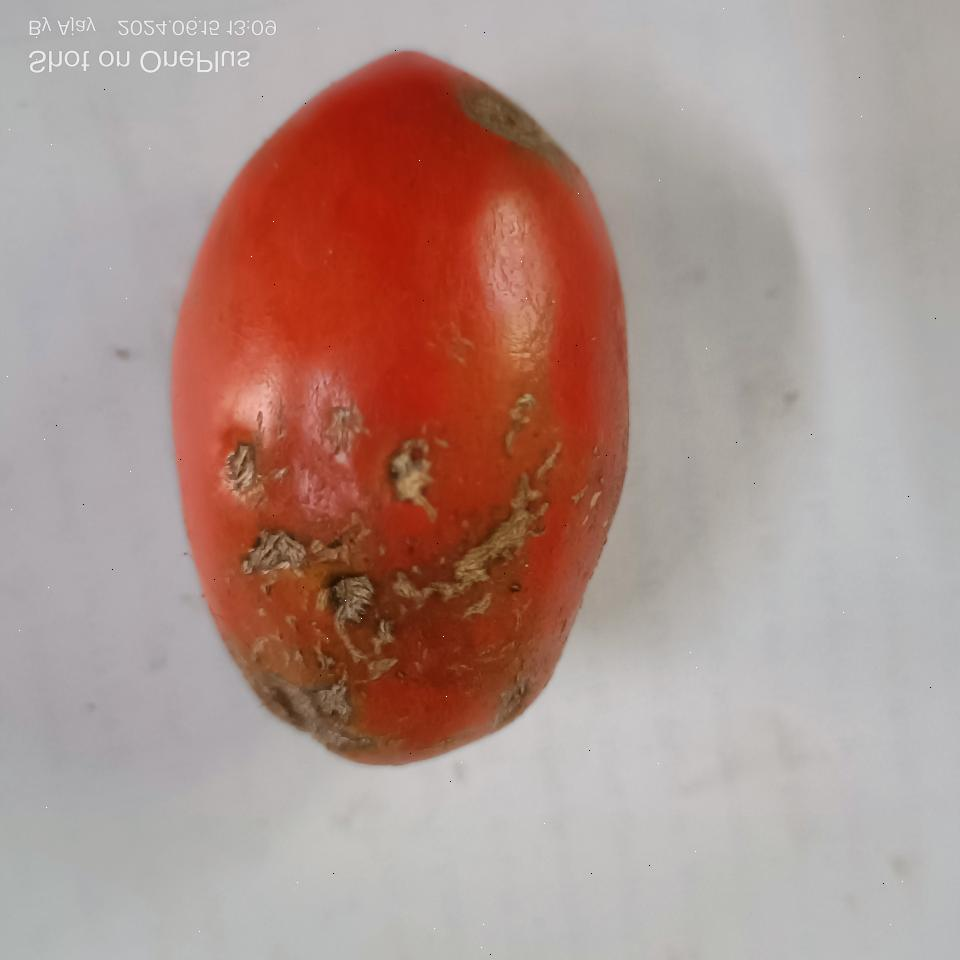Bacterial_Spot: (397, 504, 545, 612), (299, 592, 393, 745), (238, 517, 358, 587), (384, 437, 446, 512), (218, 440, 270, 498)
